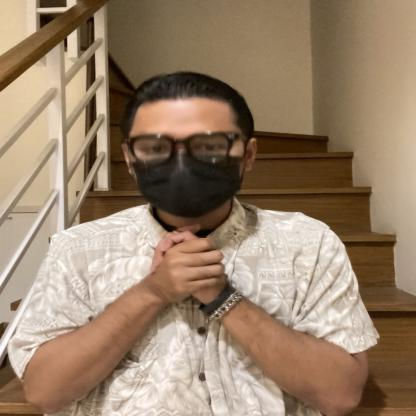Grieve: (42, 211, 290, 339)
